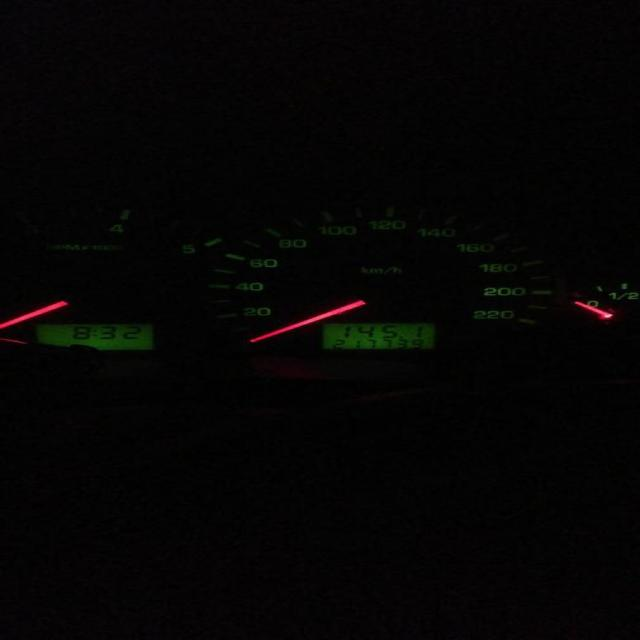odometer: (318, 321, 436, 350)
